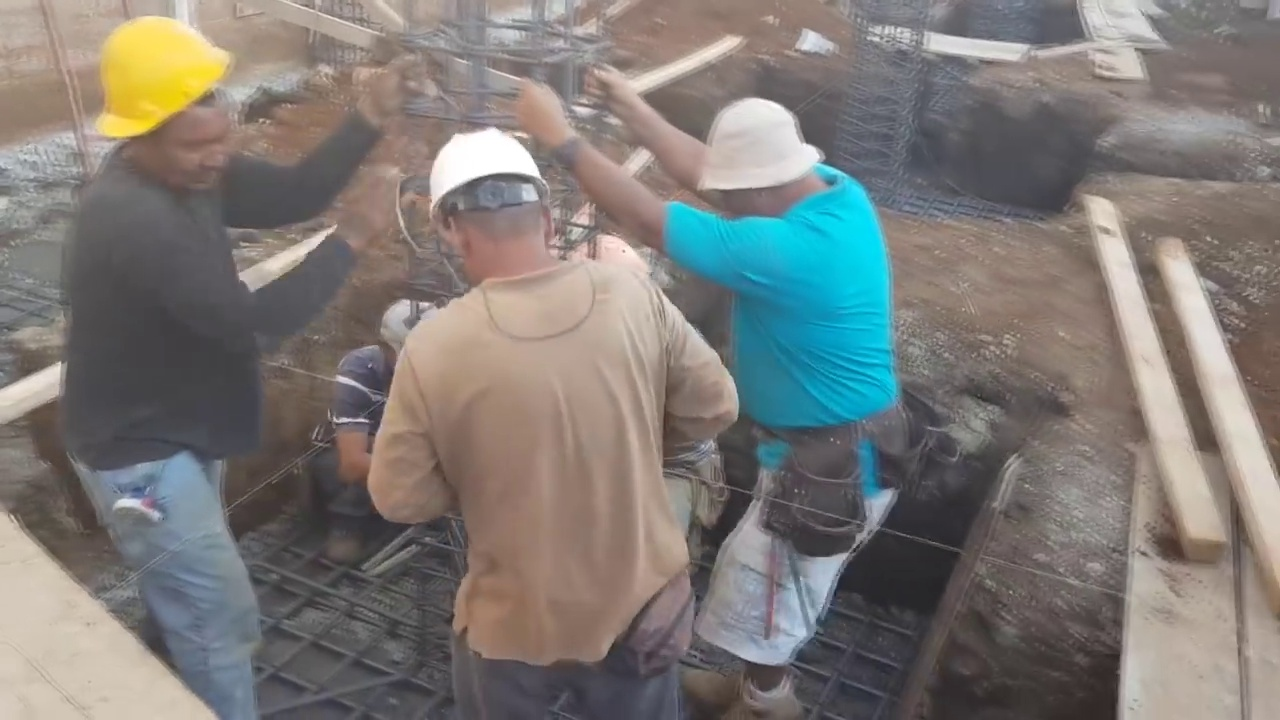helmet: (88, 9, 225, 139), (424, 127, 551, 223)
helmet-off: (692, 87, 832, 235), (369, 293, 429, 374)
helmet-on: (84, 8, 243, 202), (426, 129, 554, 292)
person: (58, 3, 412, 719), (518, 65, 898, 719), (419, 107, 803, 720), (321, 298, 441, 502)
